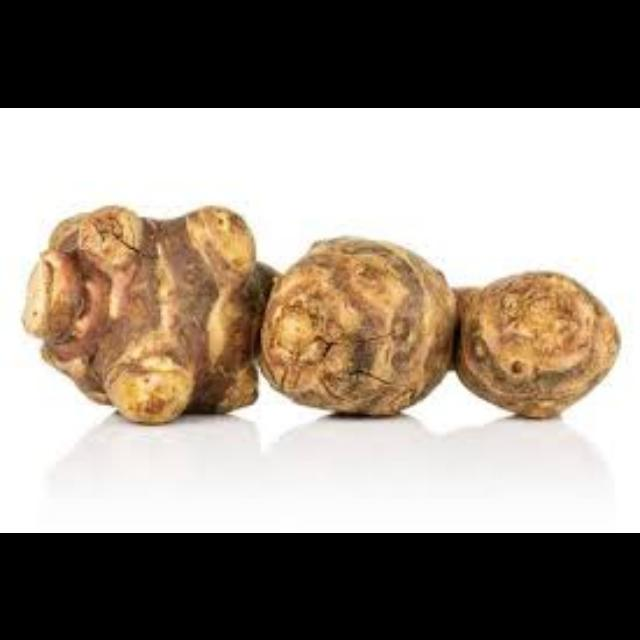Damaged potato: (22, 200, 628, 436)
